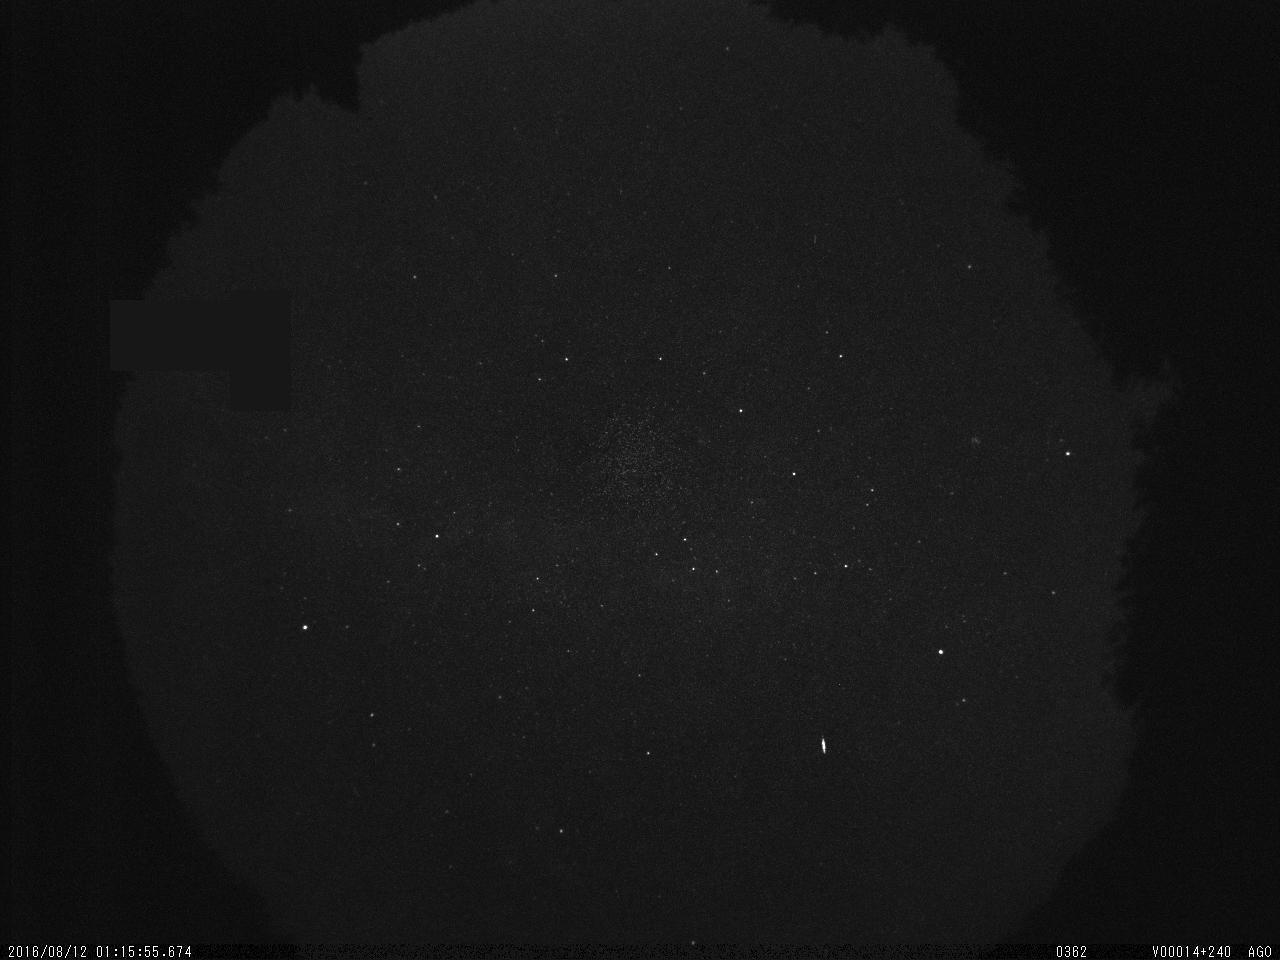Meteor: (817, 732, 830, 761)
